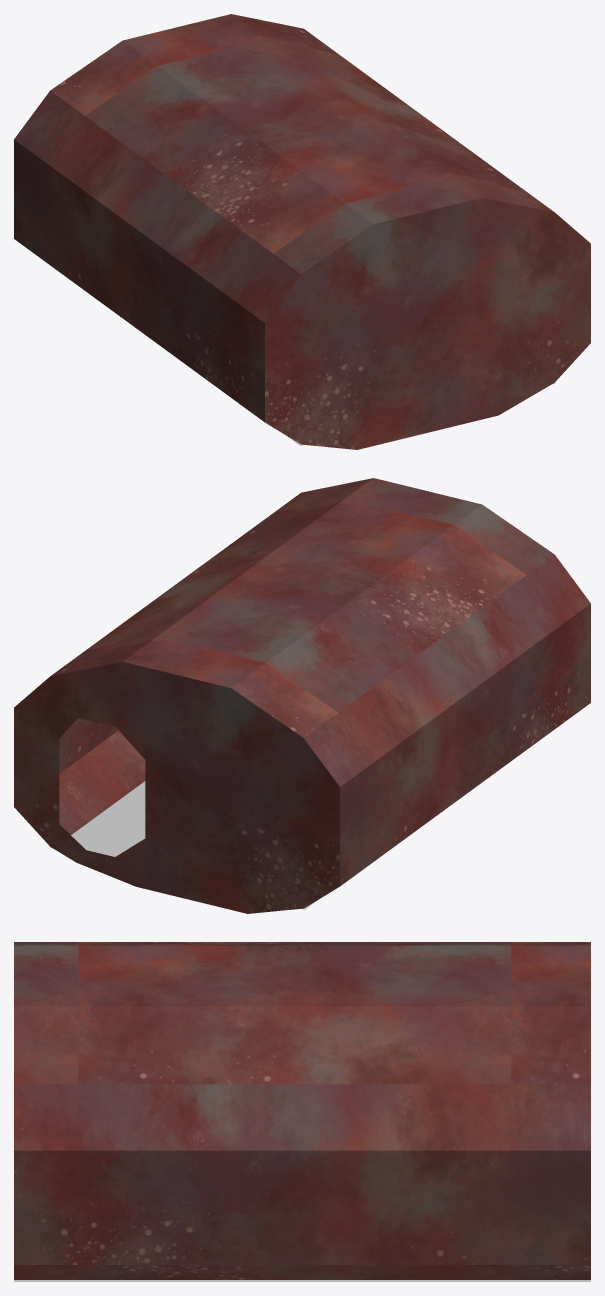
Rendered from navmesh.obj.
3 views of the same model, one above another, from view 1: azimuth 30°, elevation 25°; view 2: azimuth 150°, elevation 25°; view 3: azimuth 270°, elevation 25° (orthographic). The views are drawn at different scales.
Parts seen in each view (by area): view 1: Cube.004; view 2: Cube.004; view 3: Cube.004.
Boxes of the visible parts, left/top/right/bottom form: Cube.004: left=14, top=14, right=590, bottom=449; Cube.004: left=14, top=478, right=590, bottom=913; Cube.004: left=14, top=942, right=590, bottom=1281.
Bounding box in the file's own units: 6 × 3.9 × 8.
